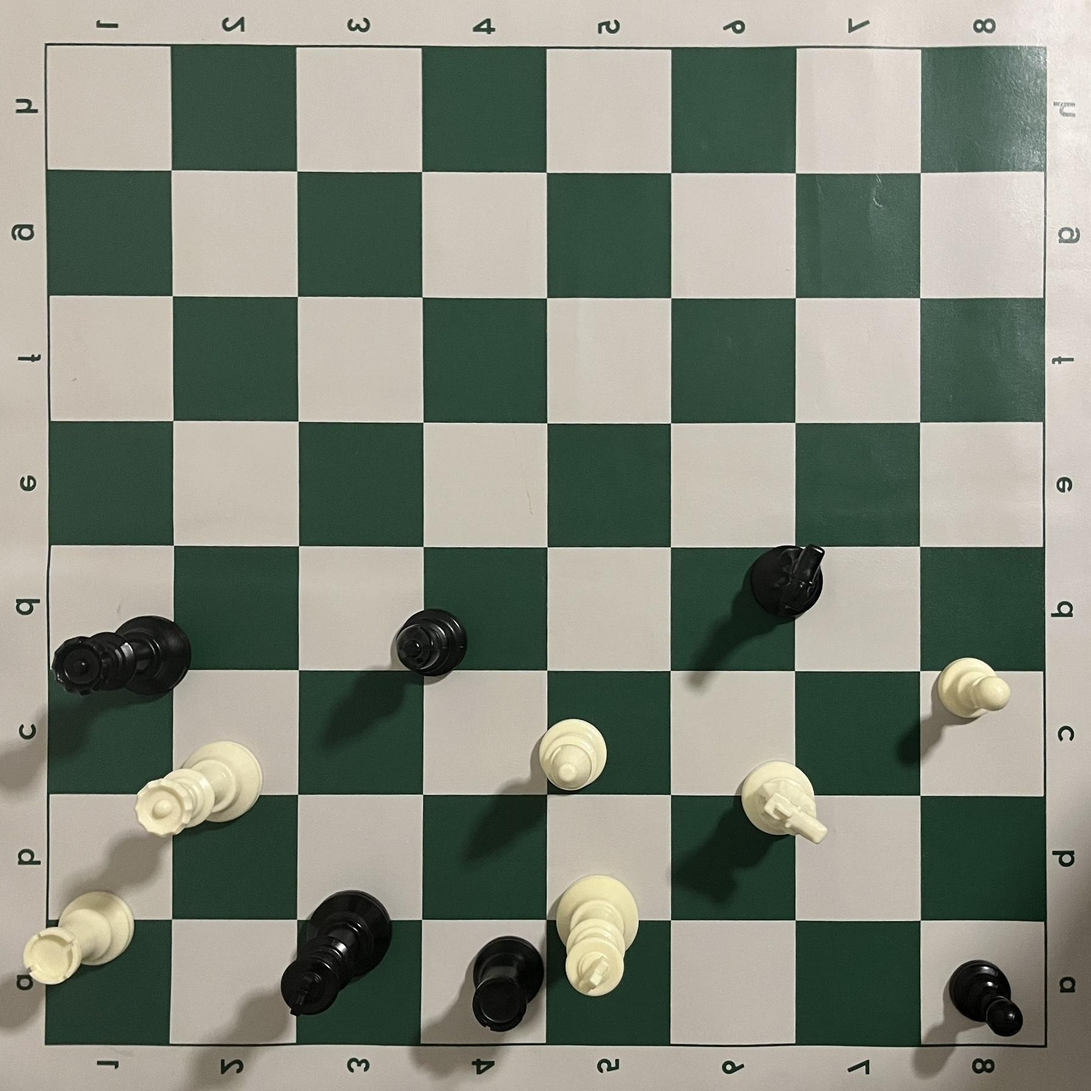black_bishop: (394, 608, 469, 677)
black_king: (280, 888, 394, 1017)
black_knight: (747, 542, 826, 620)
black_pawn: (947, 958, 1025, 1038)
black_queen: (51, 615, 192, 698)
black_rook: (471, 935, 547, 1033)
white_bishop: (537, 717, 608, 792)
white_king: (553, 874, 641, 997)
white_knight: (738, 759, 830, 846)
white_pawn: (936, 657, 1012, 721)
white_queen: (133, 740, 263, 839)
white_rook: (23, 890, 136, 986)
